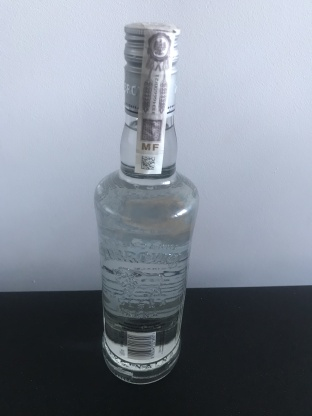nakretka: (121, 16, 182, 121)
